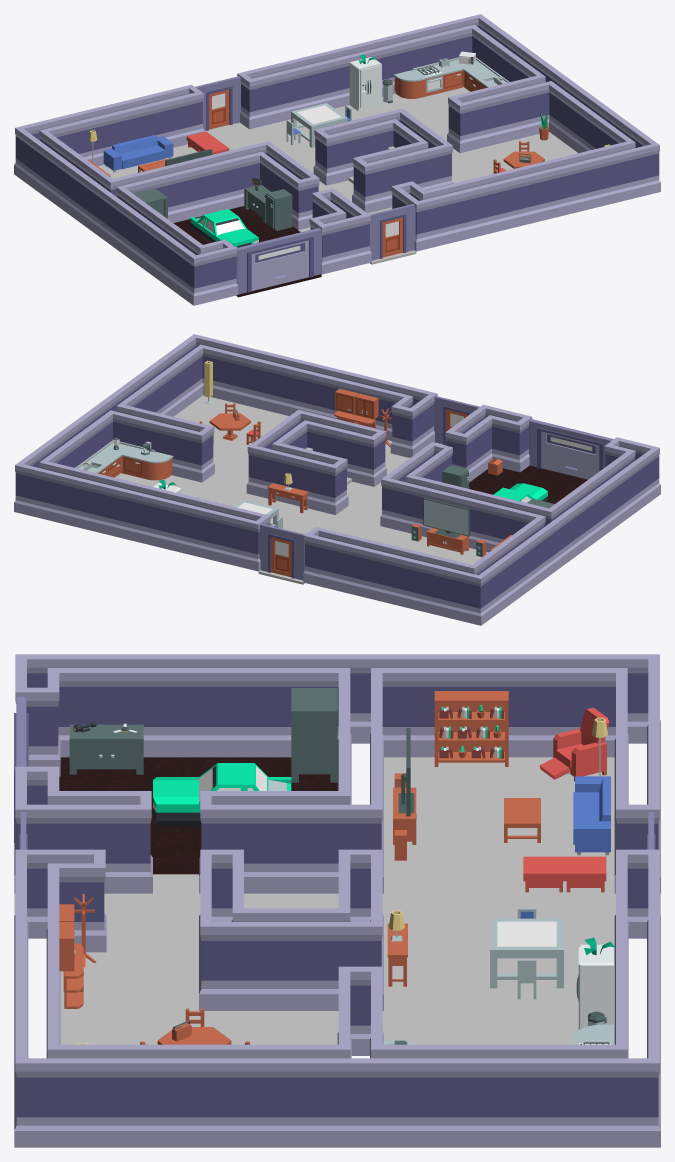
The model's file is House1-06-F1.dae.
3 views of the same model, one above another, from view 1: azimuth 30°, elevation 25°; view 2: azimuth 150°, elevation 25°; view 3: azimuth 270°, elevation 25° (orthographic). The views are drawn at different scales.
Parts seen in each view (by area): view 1: wall (×24), wall_corner (×20), porch_floorCenter (×3), doorway_wideGarage, doorway_doorWoodWindow (×2), loungeDesignSofa, HouseCarWhole, kitchenFridgeLarge, tableCoffeeGlassSquare, bookcaseClosedDoors (×2), kitchenFridge, kitchenCabinetCornerRound (+4 smaller); view 2: wall (×24), wall_corner (×17), porch_floorCenter (×6), doorway_wideGarage, doorway_doorWoodWindow (×2), televisionModern, kitchenCabinetCornerRound, HouseCarWhole, cabinetTelevisionDoors, tableRound, kitchenCabinet, sideTableDrawers (+5 smaller); view 3: wall (×25), porch_floorCenter (×7), wall_corner (×24), bookcaseClosedDoors (×2), HouseCarWhole, bookcaseClosedWide, tableCoffeeGlassSquare, loungeDesignSofa, loungeChairRelax, loungeSofaOttoman (×2), kitchenFridgeLarge, tableCoffee (+7 smaller).
Part boxes in pixels (x1,y1,x2,y2): wall (×24): [22, 17, 651, 302]; wall_corner (×20): [14, 76, 660, 305]; porch_floorCenter (×3): [98, 87, 577, 244]; doorway_wideGarage: [236, 228, 321, 294]; doorway_doorWoodWindow (×2): [195, 76, 415, 260]; loungeDesignSofa: [103, 135, 173, 172]; HouseCarWhole: [190, 209, 258, 247]; kitchenFridgeLarge: [349, 57, 381, 111]; tableCoffeeGlassSquare: [291, 103, 347, 147]; bookcaseClosedDoors (×2): [133, 184, 270, 223]; kitchenFridge: [265, 189, 292, 230]; kitchenCabinetCornerRound: [394, 68, 425, 98]; wall (×24): [23, 337, 652, 622]; wall_corner (×17): [14, 344, 660, 625]; porch_floorCenter (×6): [115, 395, 587, 564]; doorway_wideGarage: [529, 419, 613, 479]; doorway_doorWoodWindow (×2): [259, 396, 479, 580]; televisionModern: [423, 497, 470, 538]; kitchenCabinetCornerRound: [141, 450, 173, 480]; HouseCarWhole: [493, 483, 547, 502]; cabinetTelevisionDoors: [427, 527, 468, 554]; tableRound: [209, 413, 250, 440]; kitchenCabinet: [122, 445, 153, 478]; sideTableDrawers: [267, 483, 308, 513]; wall (×25): [14, 654, 660, 1147]; porch_floorCenter (×7): [14, 757, 614, 1044]; wall_corner (×24): [14, 654, 660, 1147]; bookcaseClosedDoors (×2): [69, 688, 337, 782]; HouseCarWhole: [153, 763, 291, 826]; bookcaseClosedWide: [434, 691, 508, 766]; tableCoffeeGlassSquare: [490, 918, 563, 988]; loungeDesignSofa: [573, 776, 610, 855]; loungeChairRelax: [539, 707, 609, 781]; loungeSofaOttoman (×2): [523, 856, 606, 892]; kitchenFridgeLarge: [576, 944, 613, 1029]; tableCoffee: [504, 798, 540, 842].
Bounding box in the file's own units: 21 × 2.17 × 14.01.
